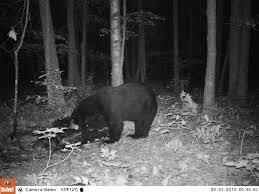bear: (65, 82, 161, 157)
